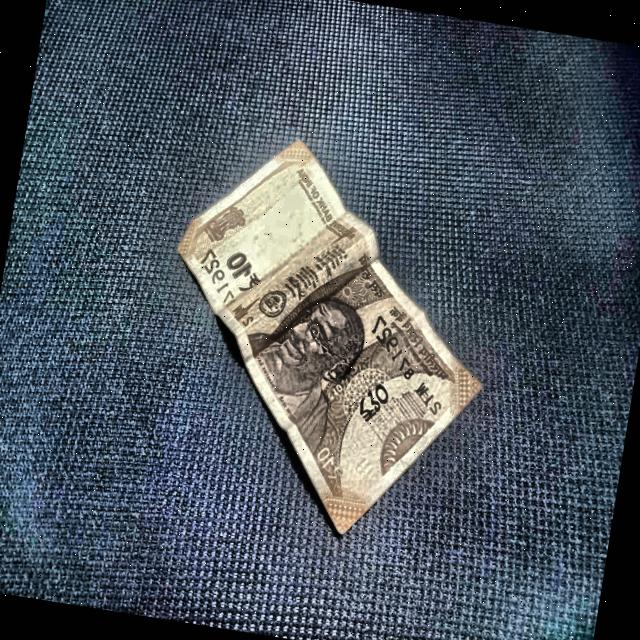-10-: (0, 81, 558, 568)
